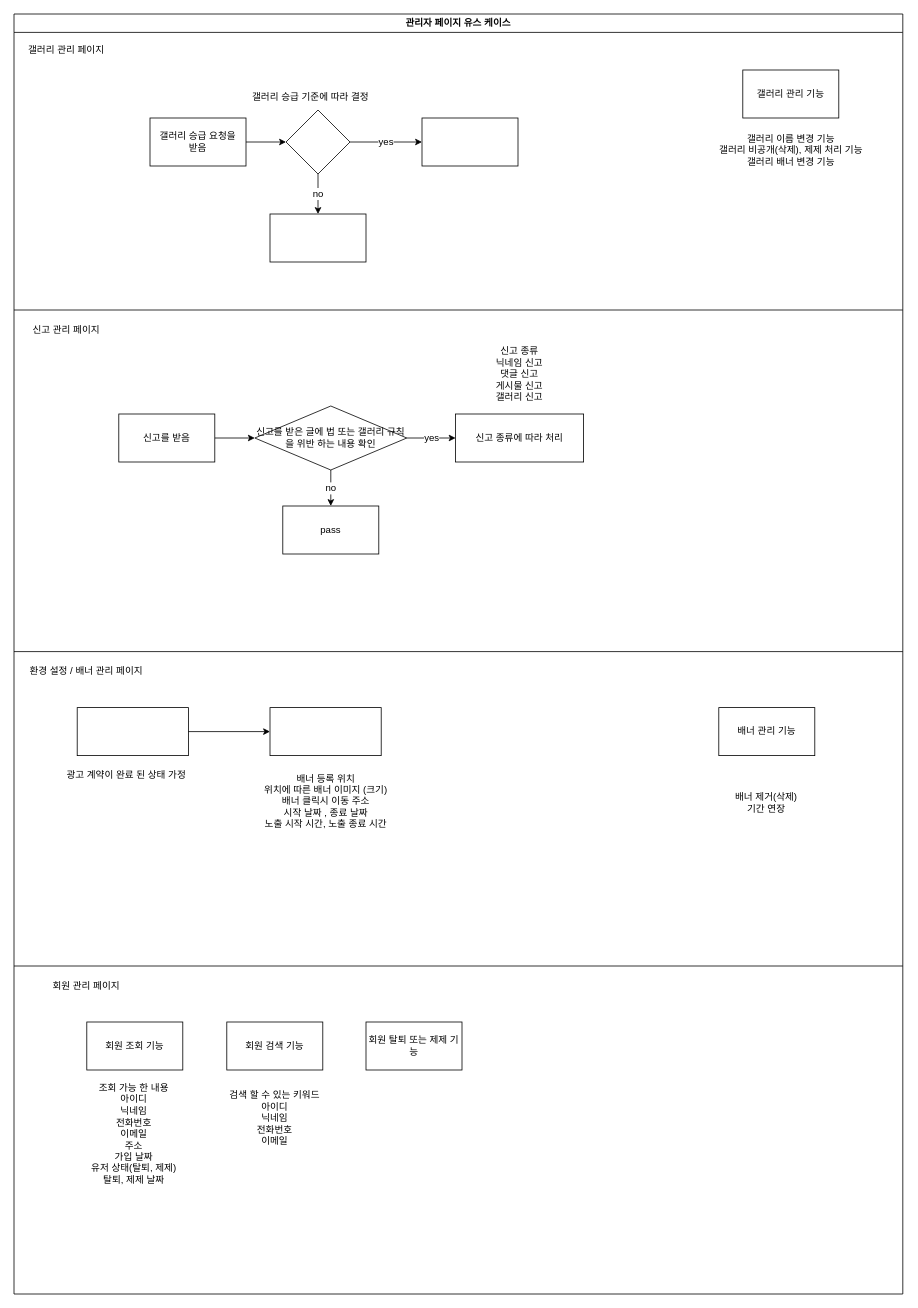
This 918x1308 diagram has some shape labels left out. Here are the shapes that lost their labels. From the top down, the box of each, then its label:
(285, 109, 350, 174): yes or no
(421, 117, 518, 166): 갤러리 승급
(269, 213, 366, 262): 갤러리 등급 유지
(76, 707, 188, 756): 배너 광고 수주가 들어옴
(269, 707, 381, 756): 계약 내용에 따라 광고가 노출 되는 기간 및 시간에 따라 등록
